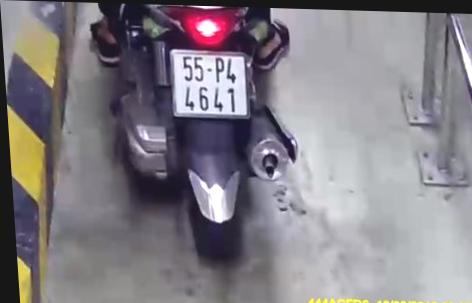License_Plate: (162, 45, 257, 122)
